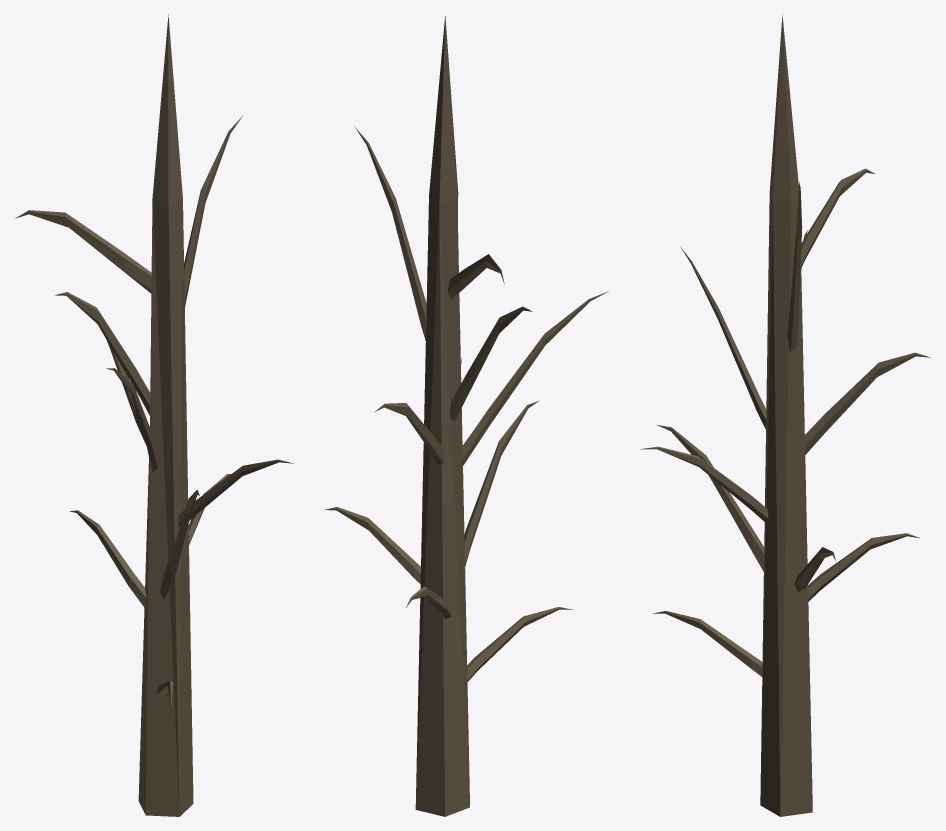
The model's file is Blue_Spruce_6_2.fbx.
3 renders of one model, left to right at view 1: azimuth 30°, elevation 25°; view 2: azimuth 150°, elevation 25°; view 3: azimuth 270°, elevation 25°, orthographic.
Parts seen in each view (by area): view 1: Spurce_6_2; view 2: Spurce_6_2; view 3: Spurce_6_2.
Boxes of the visible parts, <box> form: Spurce_6_2: <box>15,14,293,816</box>; Spurce_6_2: <box>324,16,608,816</box>; Spurce_6_2: <box>640,14,930,816</box>.
Size of the model in its own units: 168 by 604 by 202.
